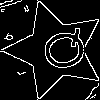Q: (30, 25, 92, 77)
